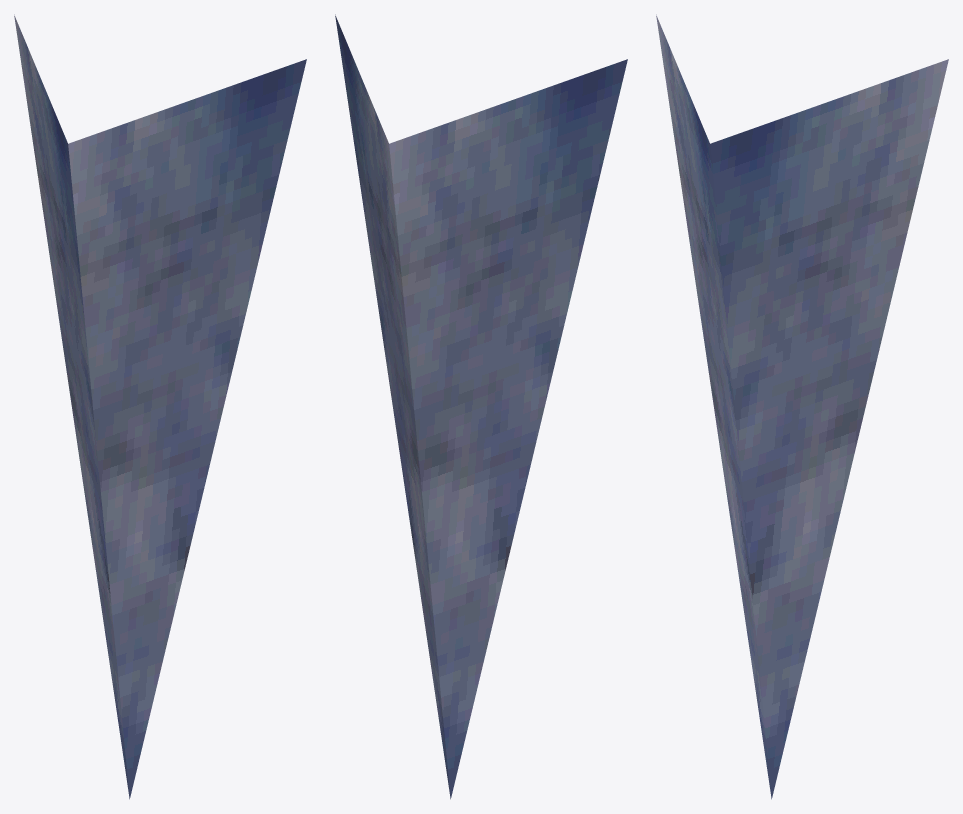
3 renders of one model, left to right at view 1: azimuth 30°, elevation 25°; view 2: azimuth 150°, elevation 25°; view 3: azimuth 270°, elevation 25°, orthographic.
Visible parts, largest first — view 1: Object12; view 2: Object12; view 3: Object12.
Part boxes in pixels (left/top/right/bottom): Object12: left=14, top=14, right=306, bottom=799; Object12: left=335, top=14, right=627, bottom=799; Object12: left=656, top=14, right=948, bottom=799.
Size of the model in its own units: 1098 by 2871 by 1048.
Materials: 1 (1 with a texture image).
